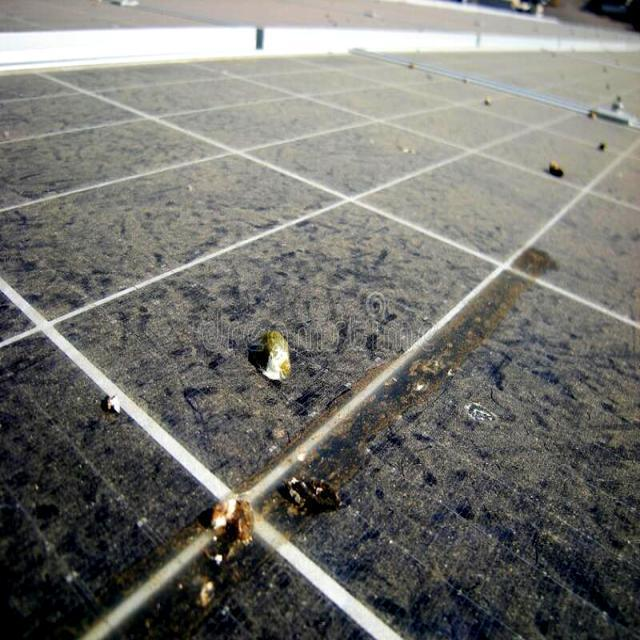soiled: (10, 69, 623, 639)
